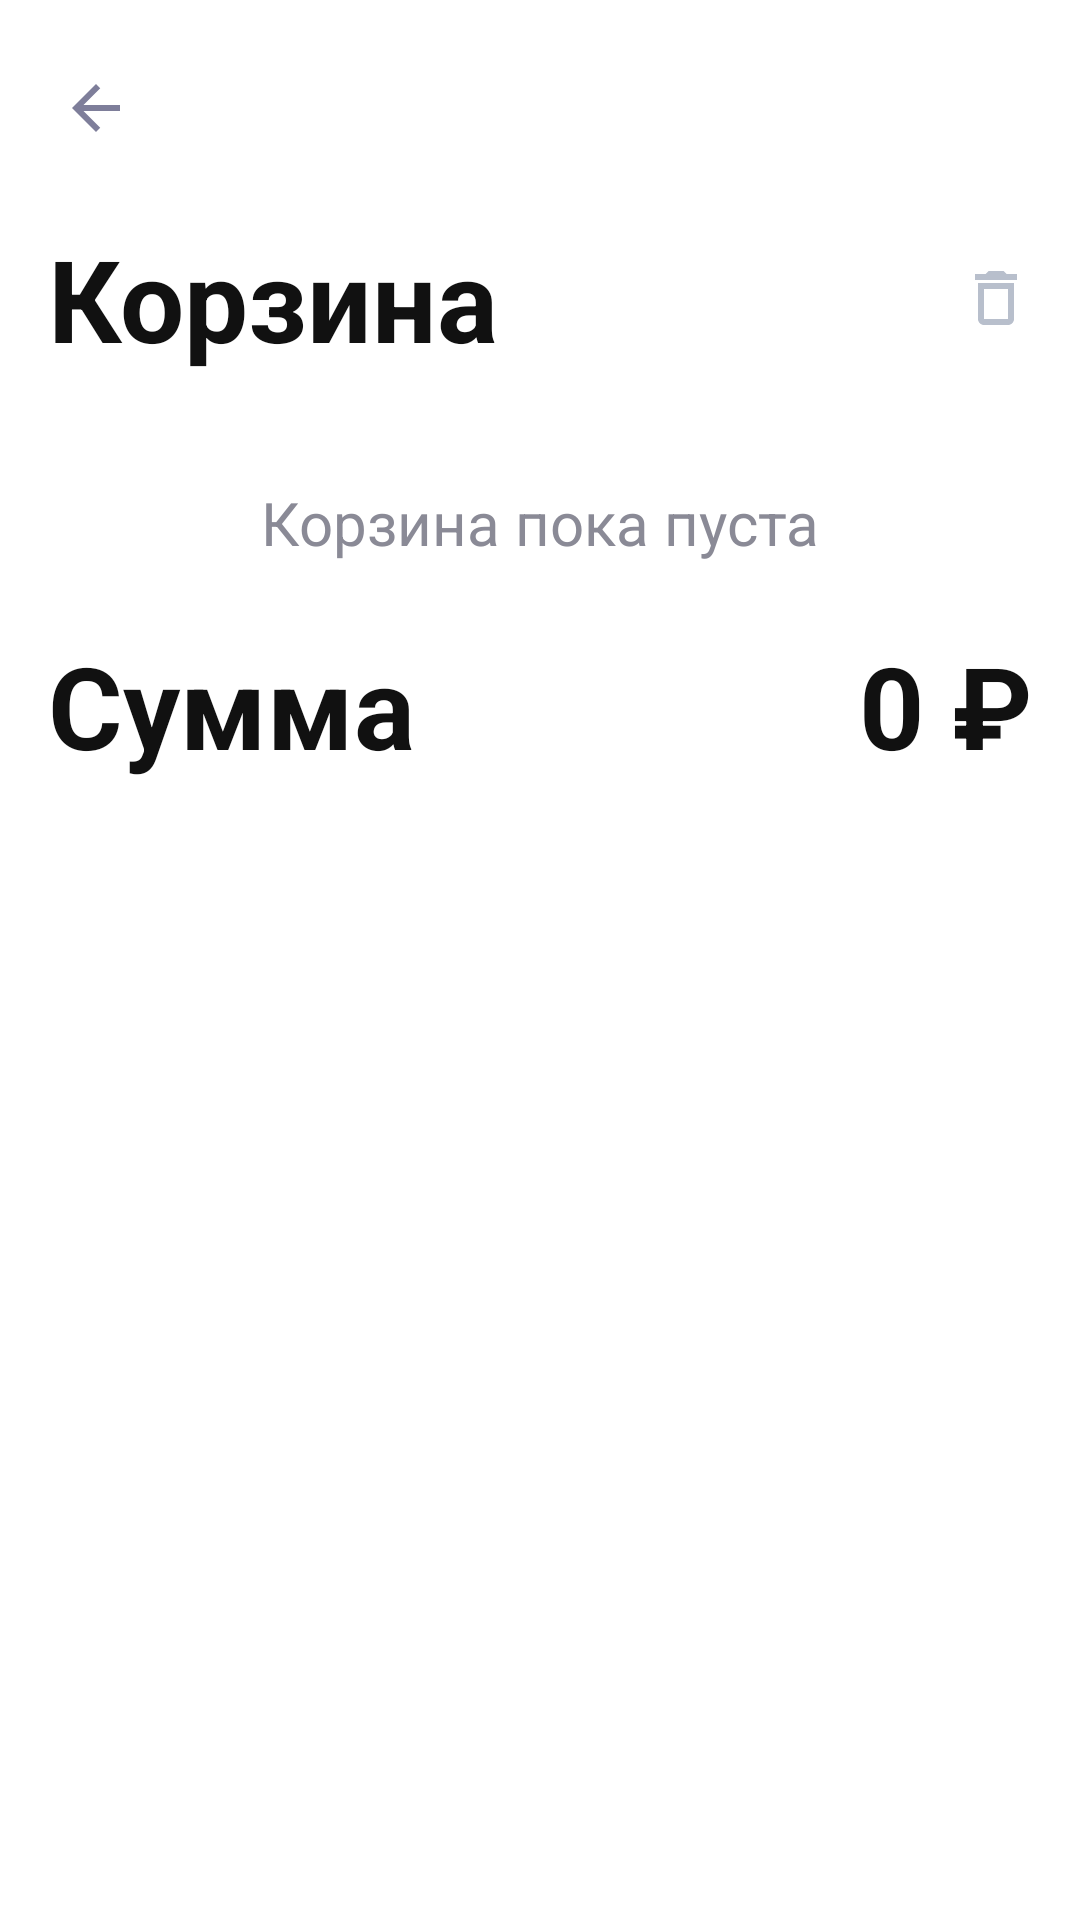

Locate icon controls on the screen. Image size 1080 x 1920, boxes as (x1, y1, x2, y2).
arrow back: (72, 84, 120, 132)
trash: (975, 271, 1017, 325)
